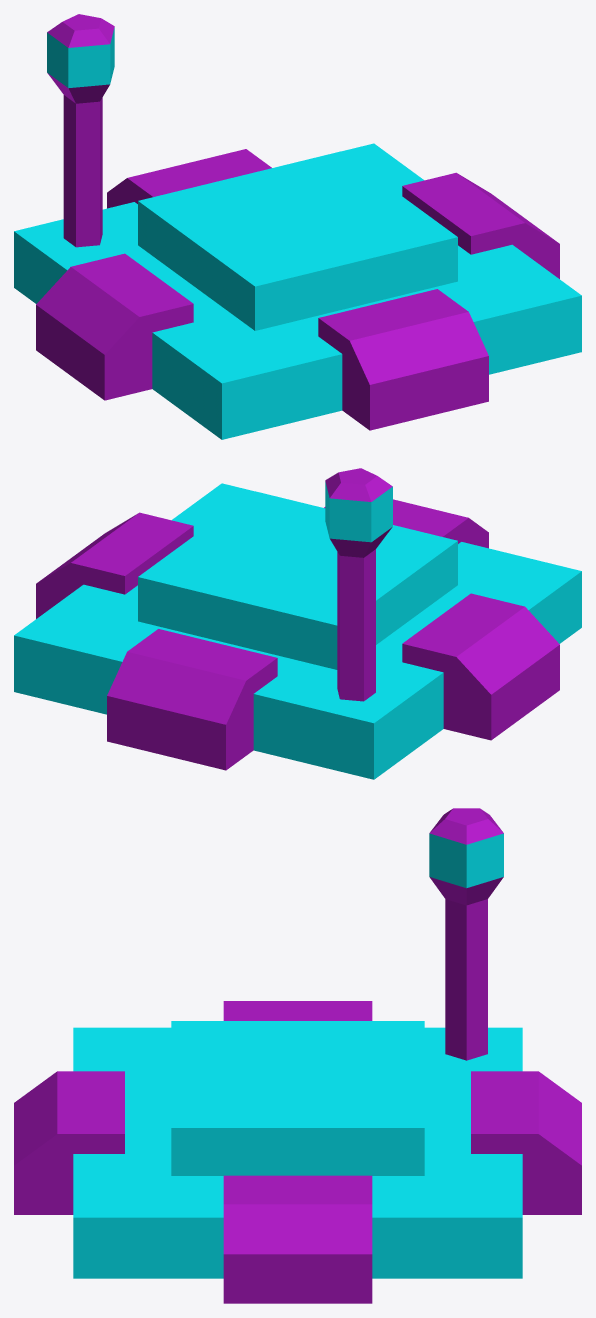
Rendered from NewMina.fbx.
3 renders of one model, top to bottom at view 1: azimuth 30°, elevation 25°; view 2: azimuth 150°, elevation 25°; view 3: azimuth 270°, elevation 25°, orthographic. The views are drawn at different scales.
Visible parts, largest first — view 1: Mine; view 2: Mine; view 3: Mine.
Boxes of the visible parts, x1,y1,x2,y2 form: Mine: (14, 14, 581, 439); Mine: (14, 468, 581, 779); Mine: (14, 808, 581, 1303).
Size of the model in its own units: 75.85 by 43.55 by 75.85.
1 material, 1 textured.
